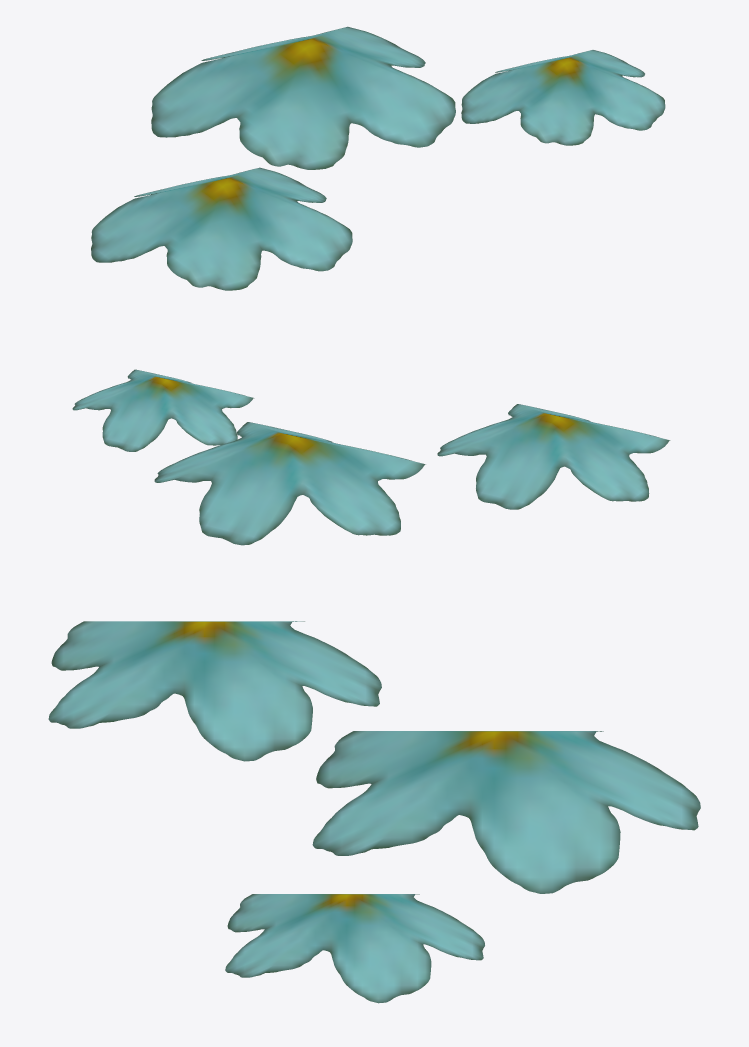
The model's file is flower_01.FBX.
3 views of the same model, one above another, from view 1: azimuth 30°, elevation 25°; view 2: azimuth 150°, elevation 25°; view 3: azimuth 270°, elevation 25° (orthographic). The views are drawn at different scales.
Parts seen in each view (by area): view 1: Plane014; view 2: Plane014; view 3: Plane014.
Part boxes in pixels (x1,y1,x2,y2): Plane014: (91,26,665,290); Plane014: (72,369,670,545); Plane014: (48,621,700,1003).
Bounding box in the file's own units: 117 × 13.68 × 86.71.
Materials: 1 (1 with a texture image).
